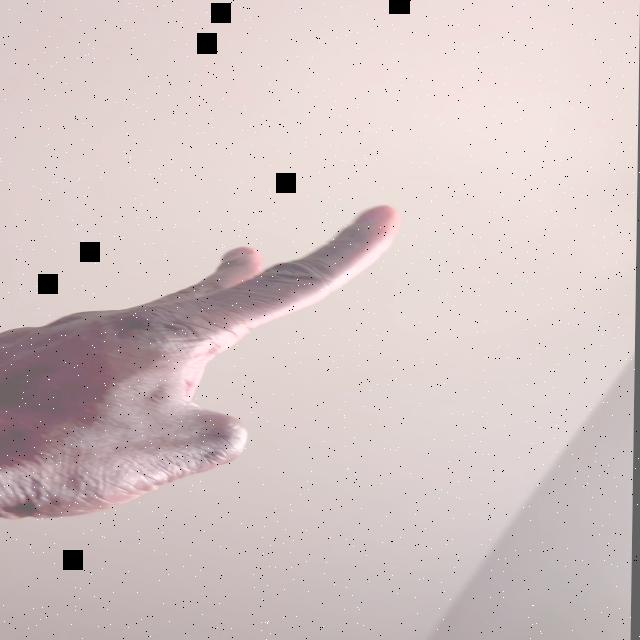Scissors: (0, 203, 403, 520)
